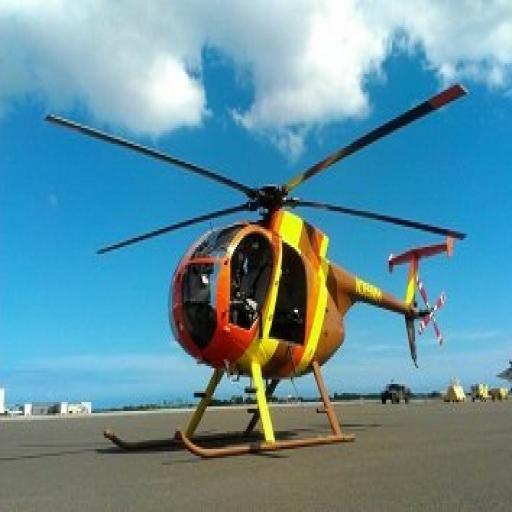helicopter: (82, 75, 467, 470)
